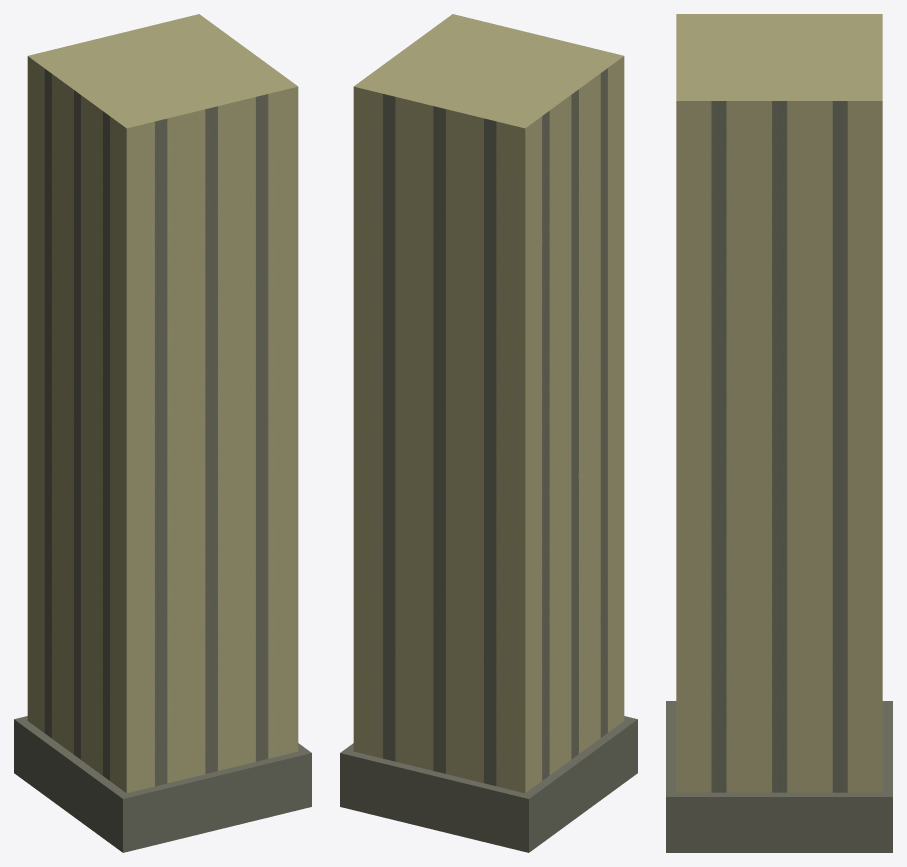
Rendered from collumn_4.fbx.
3 renders of one model, left to right at view 1: azimuth 30°, elevation 25°; view 2: azimuth 150°, elevation 25°; view 3: azimuth 270°, elevation 25°, orthographic. The views are drawn at different scales.
Visible parts, largest first — view 1: Cube.006; view 2: Cube.006; view 3: Cube.006.
Boxes of the visible parts, x1=… form: Cube.006: x1=14, y1=14, x2=311, y2=852; Cube.006: x1=340, y1=14, x2=637, y2=852; Cube.006: x1=666, y1=14, x2=892, y2=852.
Bounding box in the file's own units: 220 × 800 × 220.
